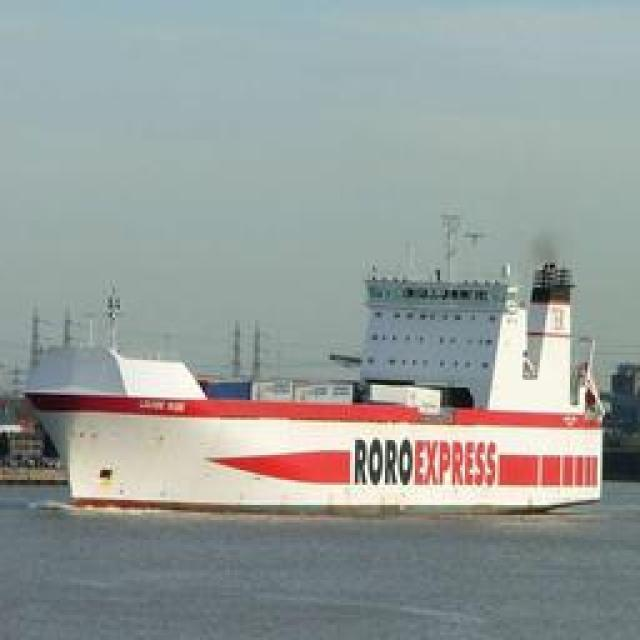Ship: (15, 313, 618, 511)
